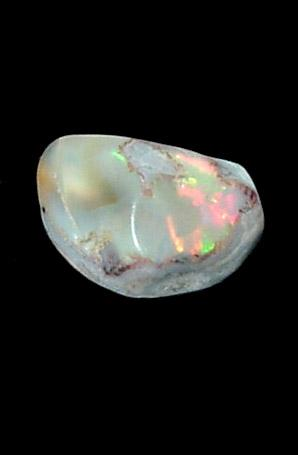opal: (113, 139, 259, 264)
